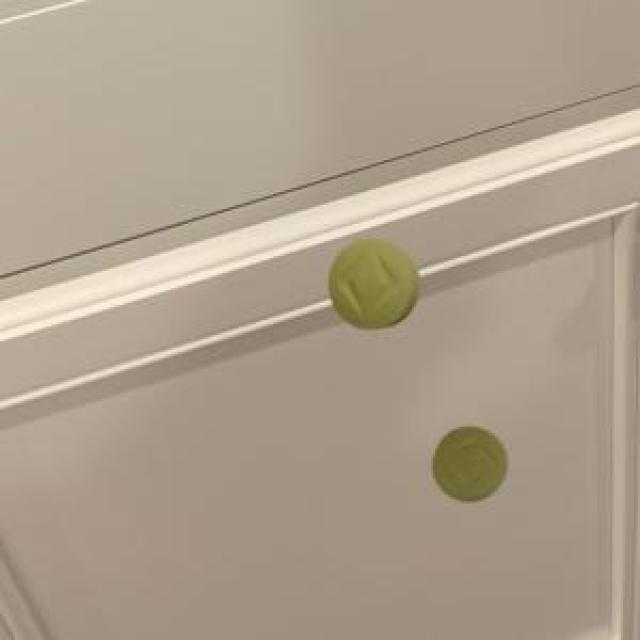Decolgen: (408, 408, 534, 524), (316, 226, 430, 346)
